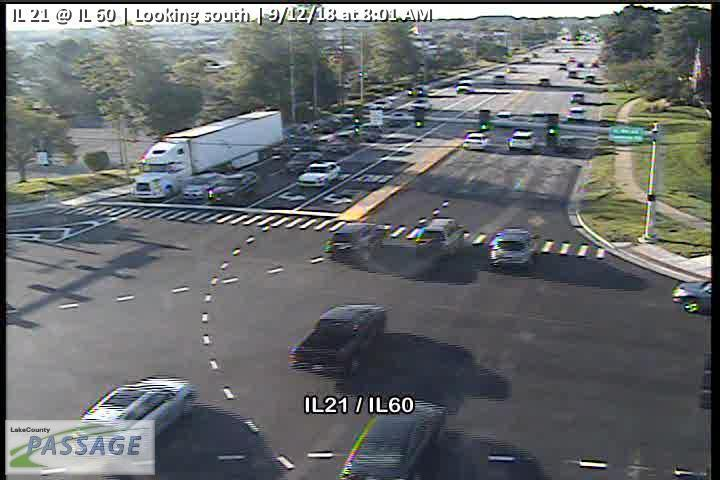Sedan: (57, 373, 196, 475), (328, 396, 447, 480), (287, 303, 388, 381), (488, 227, 533, 270), (207, 170, 257, 202), (295, 158, 341, 189), (182, 173, 226, 201), (284, 152, 325, 174), (507, 128, 536, 152), (462, 132, 489, 151), (454, 78, 473, 95), (408, 99, 430, 112)
Truck: (132, 109, 283, 203)
